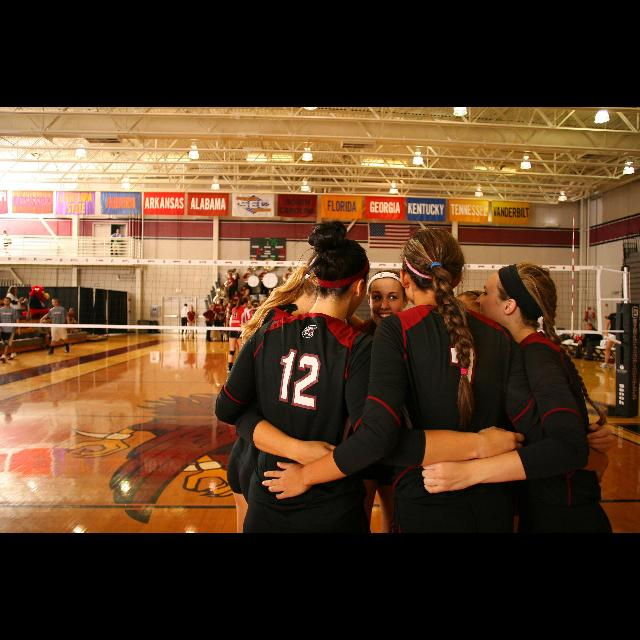head: (398, 227, 466, 303), (313, 238, 371, 320), (476, 264, 544, 330), (301, 262, 351, 318), (366, 268, 408, 328), (2, 298, 12, 306), (10, 286, 18, 296), (240, 298, 248, 308), (617, 304, 625, 312), (585, 324, 593, 332), (250, 300, 258, 308), (52, 300, 58, 306), (44, 316, 50, 322), (210, 304, 214, 312), (70, 308, 74, 314), (189, 306, 193, 312), (227, 274, 233, 278), (235, 290, 239, 296), (116, 228, 120, 234), (220, 306, 224, 310), (232, 269, 236, 273), (263, 269, 267, 273), (243, 286, 247, 290), (185, 304, 188, 308)
person: (226, 296, 256, 376), (600, 302, 628, 372), (39, 297, 71, 355), (244, 299, 268, 373), (0, 296, 22, 364), (573, 323, 605, 363), (4, 284, 28, 330), (36, 316, 54, 350), (212, 303, 226, 342), (258, 266, 272, 300), (202, 304, 214, 342), (62, 307, 78, 335), (110, 228, 124, 260), (240, 284, 253, 316), (185, 306, 197, 340), (179, 302, 191, 336), (230, 290, 242, 322), (224, 272, 236, 300), (228, 268, 240, 292)
